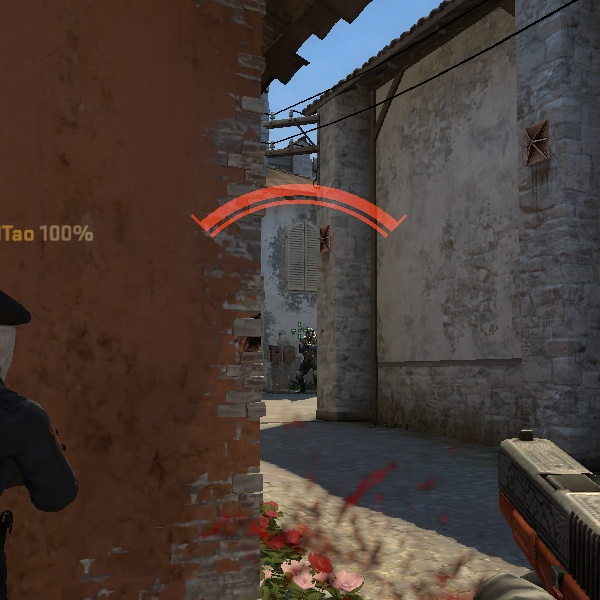ct_body: (288, 325, 322, 397)
